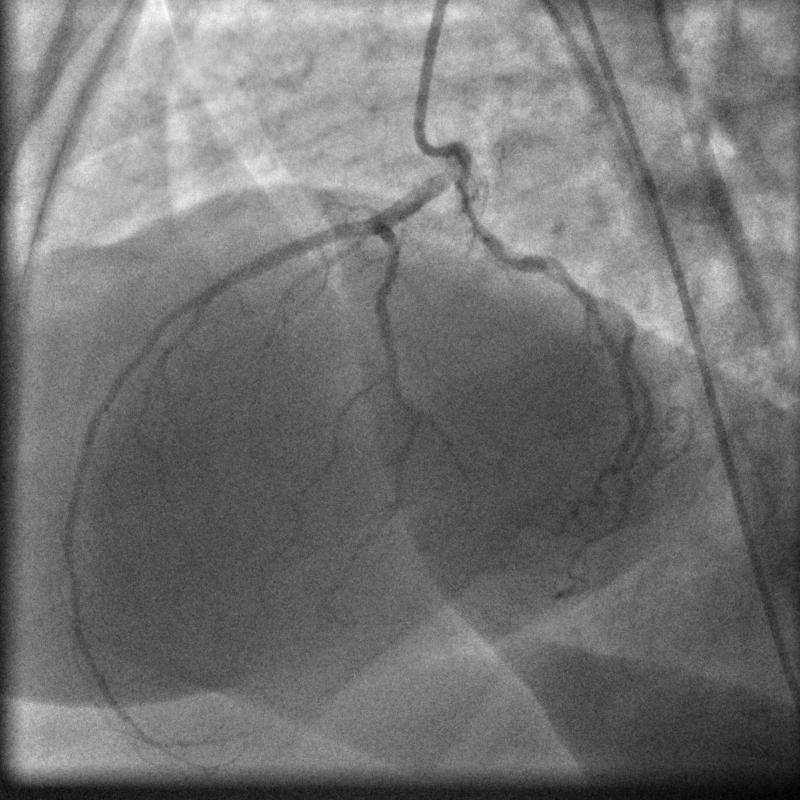Stenosis: (487, 228, 530, 278)
